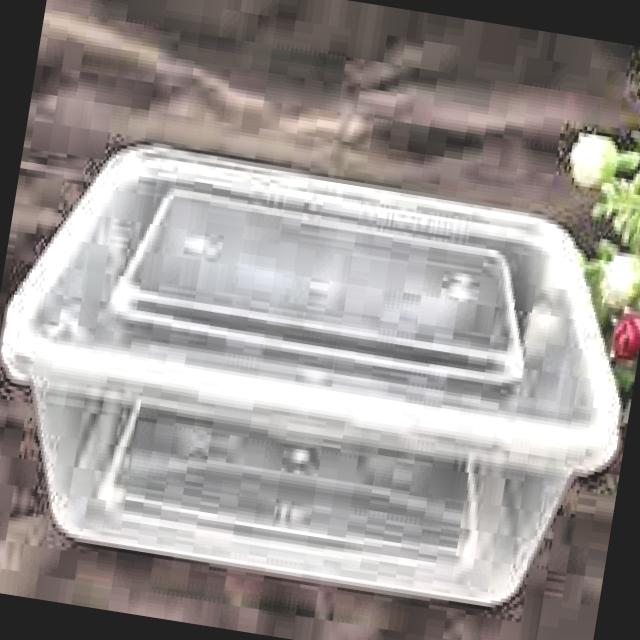plastic container: (0, 146, 620, 605)
